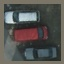car: (12, 26, 50, 40), (4, 10, 40, 24), (24, 47, 57, 60)
